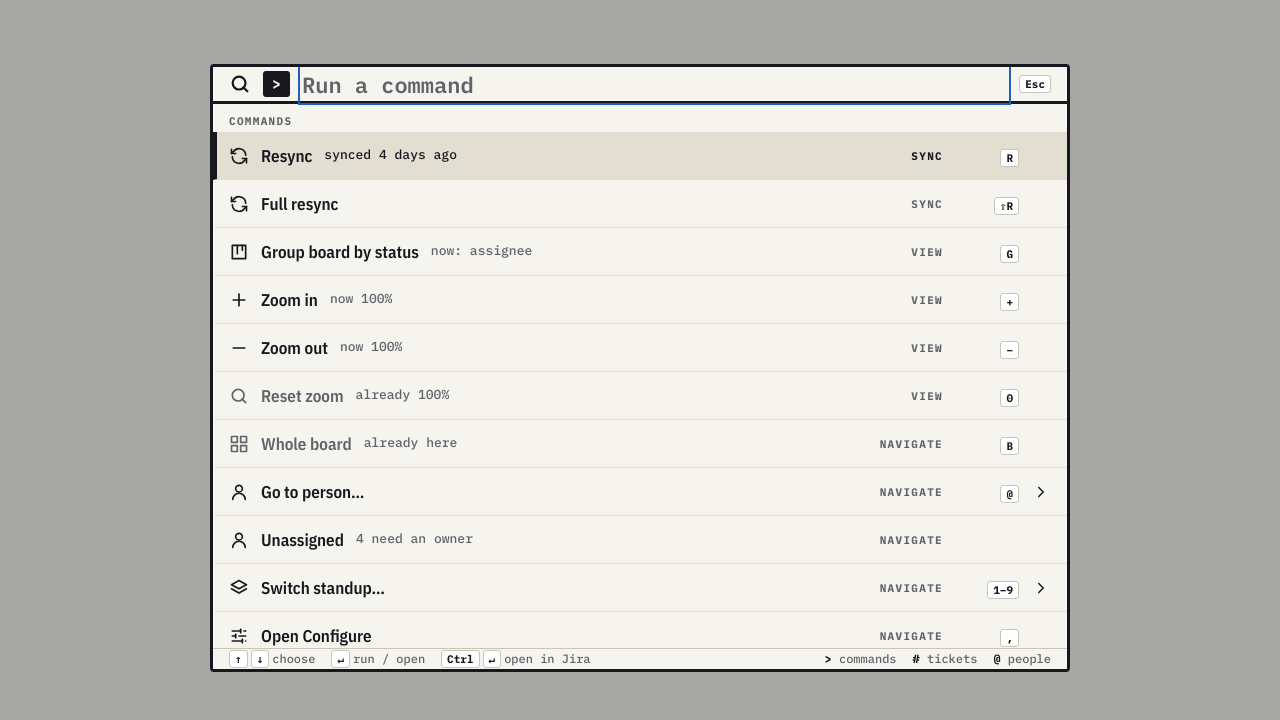
Scenario: accessibility › disabled commands are aria-disabled and cannot run
Later steps or results of the test are not shown.
In the dropdown: (655, 84) [302,67,1007,101], type "install update"
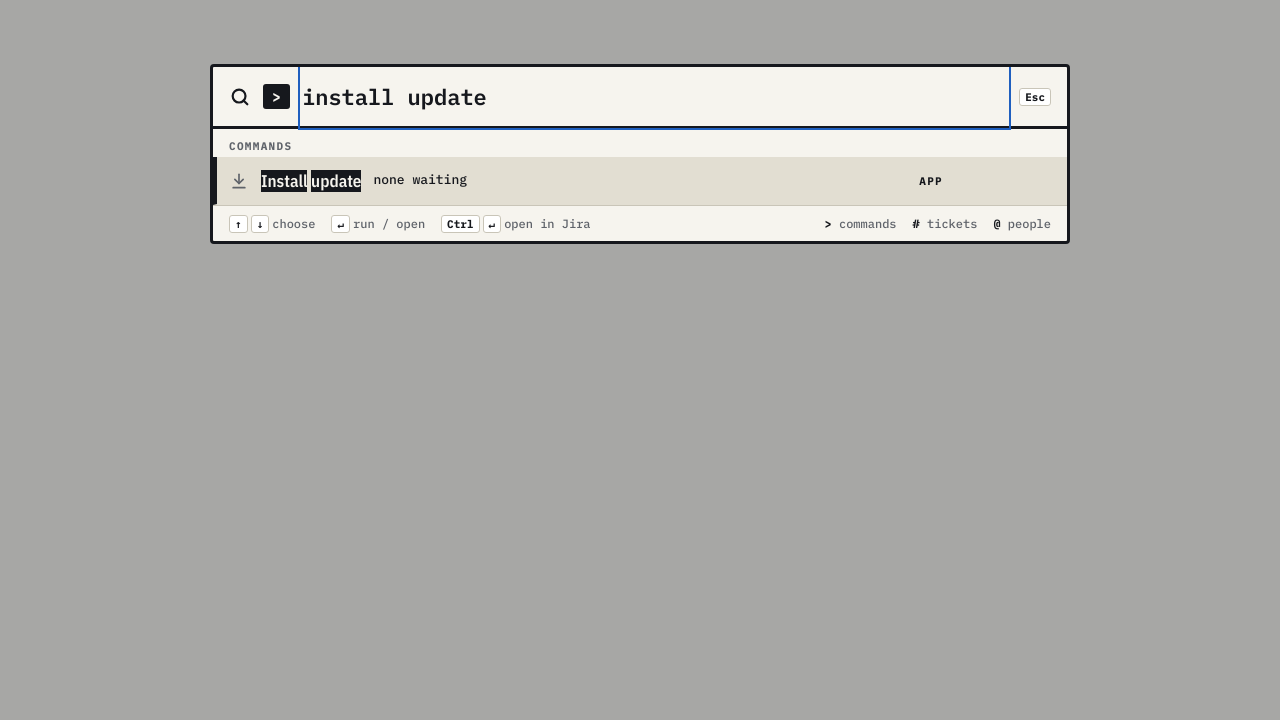
Expected: the option shows "none waiting", [213,157,1067,205]
